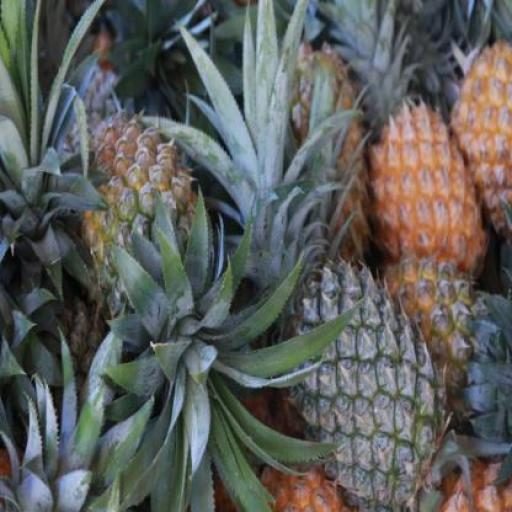------------------------------: (68, 114, 206, 325)
Pineapple - v8 v1: (369, 100, 483, 280)
